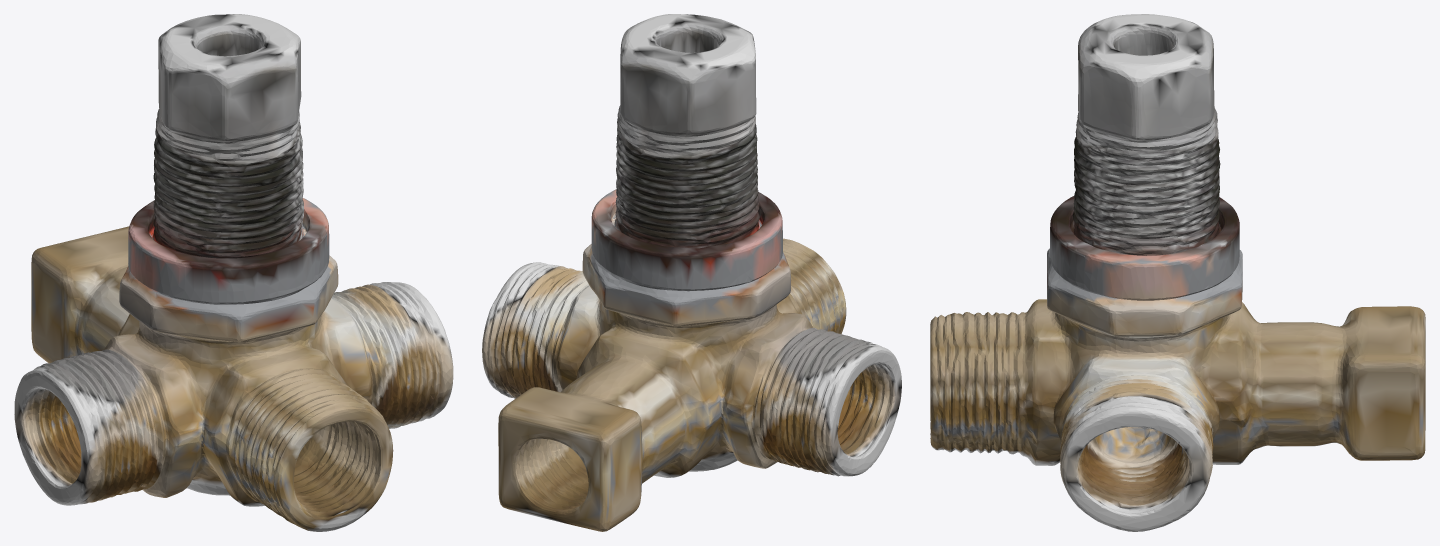
The model's file is machine.glb.
The picture shows the model from 3 angles, left to right: view 1: azimuth 30°, elevation 25°; view 2: azimuth 150°, elevation 25°; view 3: azimuth 270°, elevation 25°; orthographic projection. The views are drawn at different scales.
Visible parts, largest first — view 1: tmphhbk27b8.ply; view 2: tmphhbk27b8.ply; view 3: tmphhbk27b8.ply.
Boxes of the visible parts, box(x1,y1,x2,y2) form: tmphhbk27b8.ply: box(14, 14, 453, 531); tmphhbk27b8.ply: box(482, 14, 901, 531); tmphhbk27b8.ply: box(930, 14, 1425, 531).
Size of the model in its own units: 1.67 by 1.88 by 1.99.
